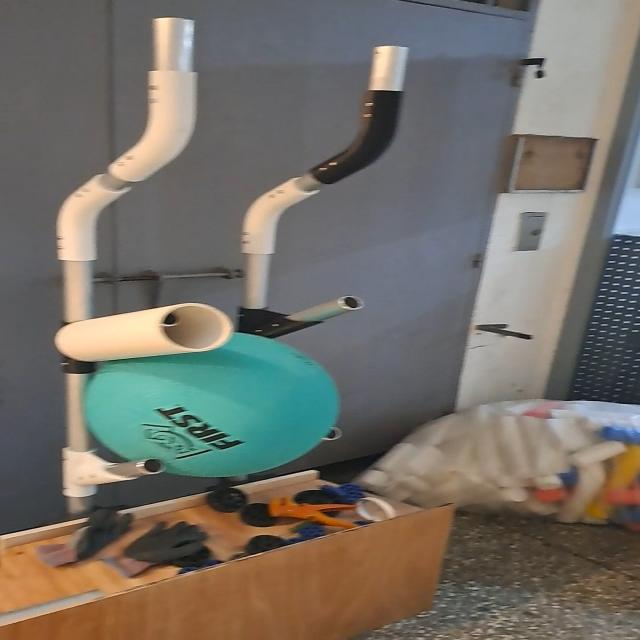ALGAE: (83, 332, 343, 479)
CORAL: (57, 301, 235, 363)
